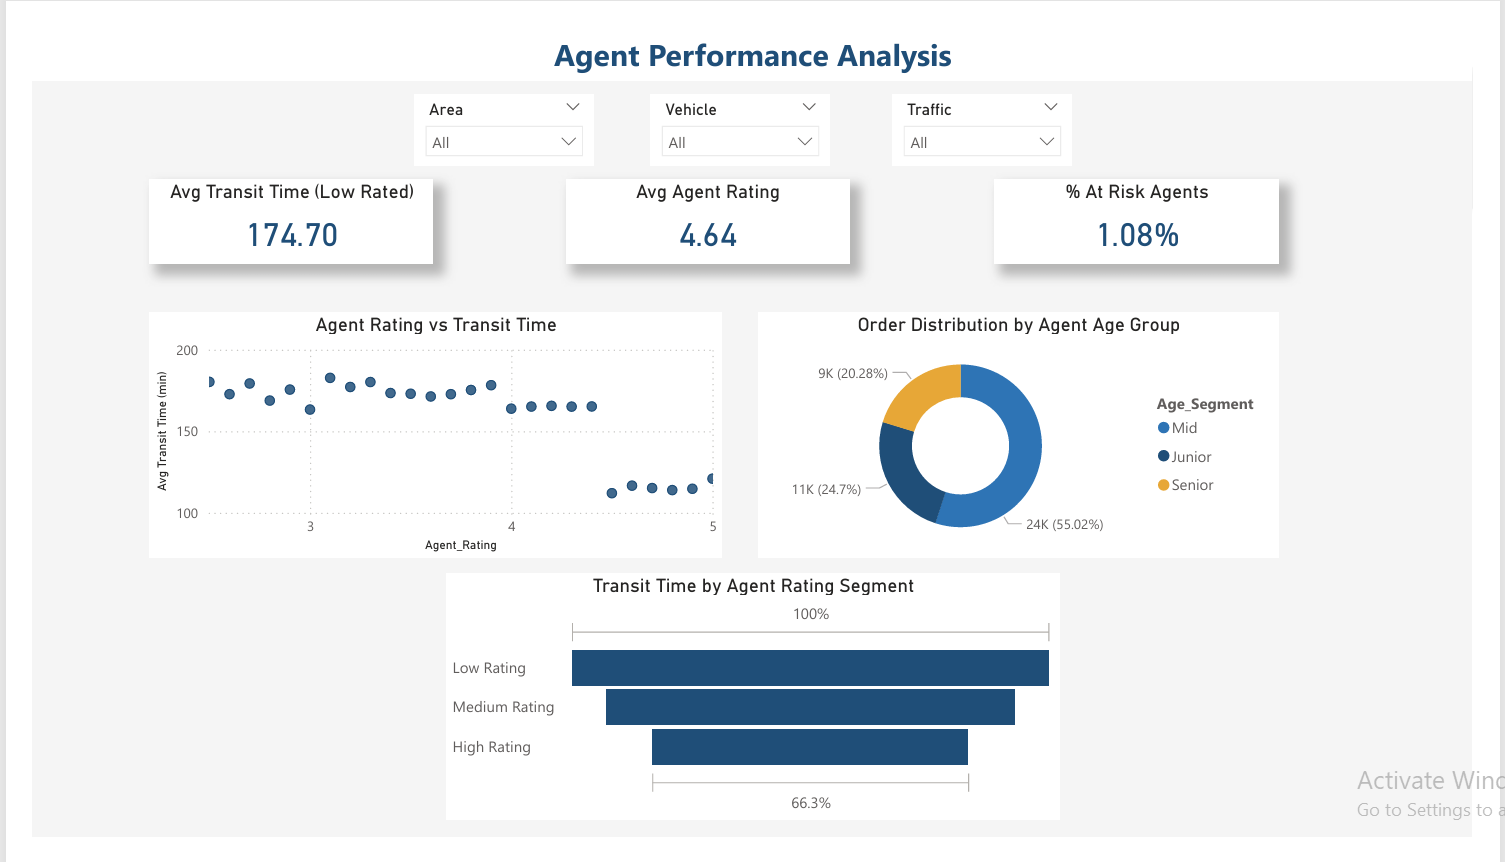

What the dashboard file says about the page in this screenshot:
{"tool":"powerbi","page":{"name":"Agent Performance","canvas":[1280,720],"ordinal":1},"visuals":[{"type":"textbox","box":[0,0,1280,47.5],"z":0},{"type":"slicer","fields":{"Values":["deliveries.Area"]},"box":[338.8,58.8,160,63.8],"z":1},{"type":"slicer","fields":{"Values":["deliveries.Vehicle"]},"box":[548.8,58.8,160,63.8],"z":2},{"type":"slicer","fields":{"Values":["deliveries.Traffic"]},"box":[763.8,58.8,160,63.8],"z":3},{"type":"card","title":"Avg Transit Time (Low Rated)","fields":{"Values":["deliveries.Avg Transit Low Rated"]},"box":[103.8,135,252.5,75],"z":4},{"type":"card","title":"Avg Agent Rating","fields":{"Values":["deliveries.Avg Agent Rating"]},"box":[473.8,135,252.5,75],"z":5},{"type":"card","title":"% At Risk Agents","fields":{"Values":["deliveries.% At Risk Agents"]},"box":[855,135,252.5,75],"z":6},{"type":"scatterChart","title":"Agent Rating vs Transit Time","fields":{"X":["deliveries.Agent_Rating"],"Y":["deliveries.Avg Transit Time"]},"box":[103.8,252.5,508.8,218.8],"z":7},{"type":"donutChart","title":"Order Distribution by Agent Age Group","fields":{"Category":["deliveries.Age_Segment"],"Y":["deliveries.Total Orders"]},"box":[645,252.5,462.5,218.8],"z":8},{"type":"funnel","title":"Transit Time by Agent Rating Segment","fields":{"Category":["deliveries.Rating_Segment"],"Y":["deliveries.Avg Transit Time"]},"box":[367.5,485,545,218.8],"z":9}]}

Visuals, with their boxes in screenshot pixels (x1, y1, x2, y2), scaled from the page's 1280x720 canvas onto the 1505x862 screenshot:
textbox: crop(0, 0, 1504, 57)
slicer - deliveries.Area: crop(398, 70, 586, 147)
slicer - deliveries.Vehicle: crop(645, 70, 833, 147)
slicer - deliveries.Traffic: crop(898, 70, 1086, 147)
"Avg Transit Time (Low Rated)" card: crop(122, 162, 419, 251)
"Avg Agent Rating" card: crop(557, 162, 854, 251)
"% At Risk Agents" card: crop(1005, 162, 1302, 251)
"Agent Rating vs Transit Time" scatterChart: crop(122, 302, 720, 564)
"Order Distribution by Agent Age Group" donutChart: crop(758, 302, 1302, 564)
"Transit Time by Agent Rating Segment" funnel: crop(432, 581, 1073, 843)
